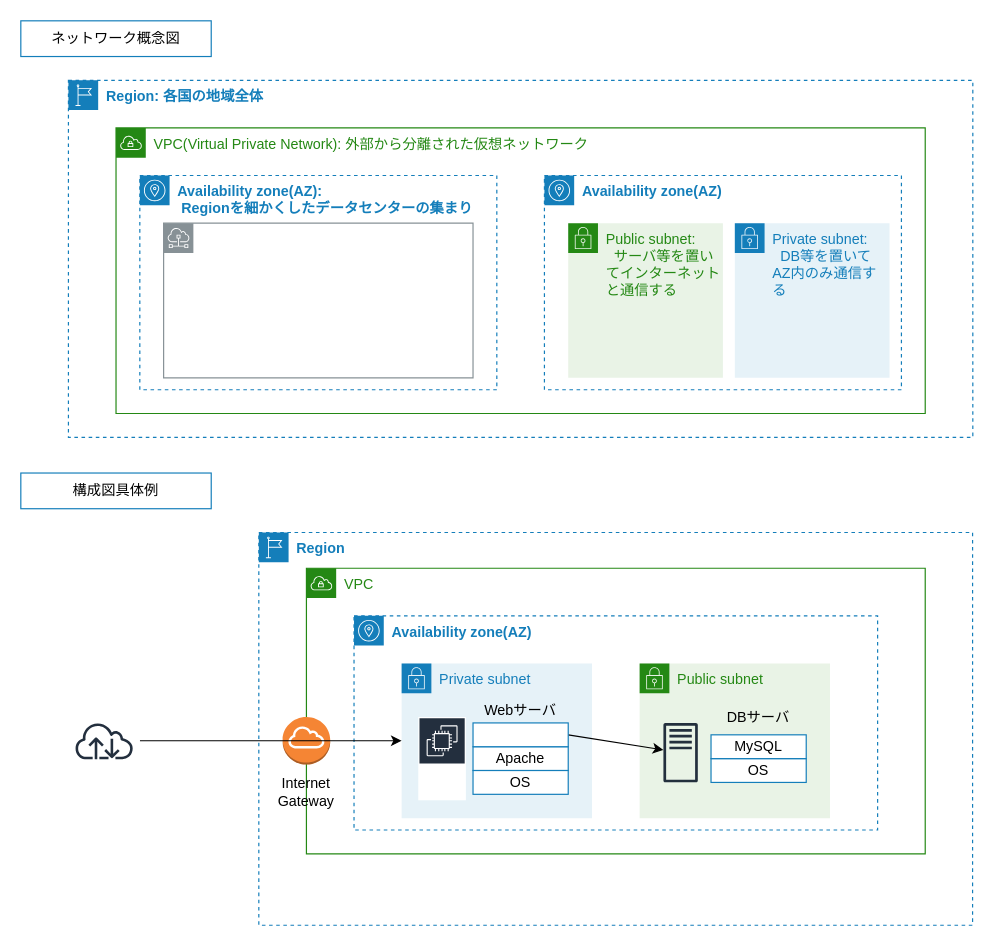
Some shapes in this 994 by 946 pixel diagram are drawn without their labels. The shapes that lost their labels are listed below. From the top down, each one's centre as x and y in pixels, then its label:
[317,300]: Subnet: - VPCを細かくしたもの - AZをまたがることで可用性が高まる
[103,740]: Internet
[520,734]: WordPress
[441,758]: Amazon EC2
